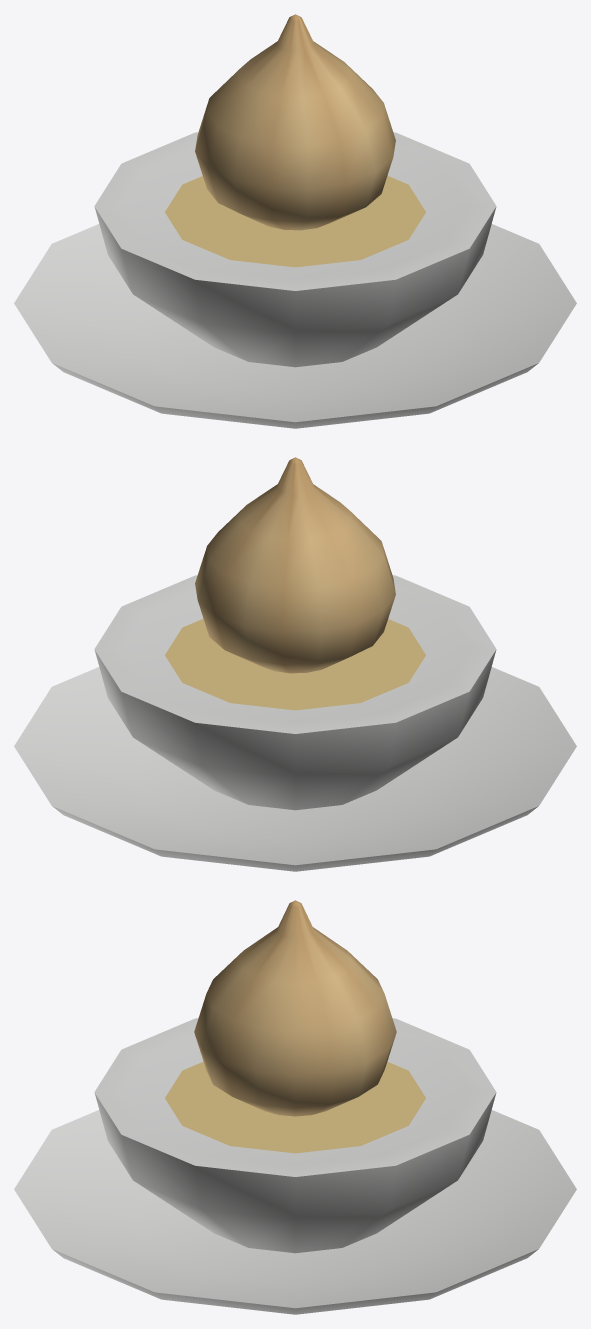
The model's file is kr_icon_soup_onion.glb.
3 views of the same model, one above another, from view 1: azimuth 30°, elevation 25°; view 2: azimuth 150°, elevation 25°; view 3: azimuth 270°, elevation 25° (orthographic).
Visible parts, largest first — view 1: vc_m0_r2; view 2: vc_m0_r2; view 3: vc_m0_r2.
Boxes of the visible parts, box(x1,y1,x2,y2) form: vc_m0_r2: box(14, 14, 576, 428); vc_m0_r2: box(14, 457, 576, 871); vc_m0_r2: box(14, 900, 576, 1314).
Size of the model in its own units: 0.42 by 0.278 by 0.42.
